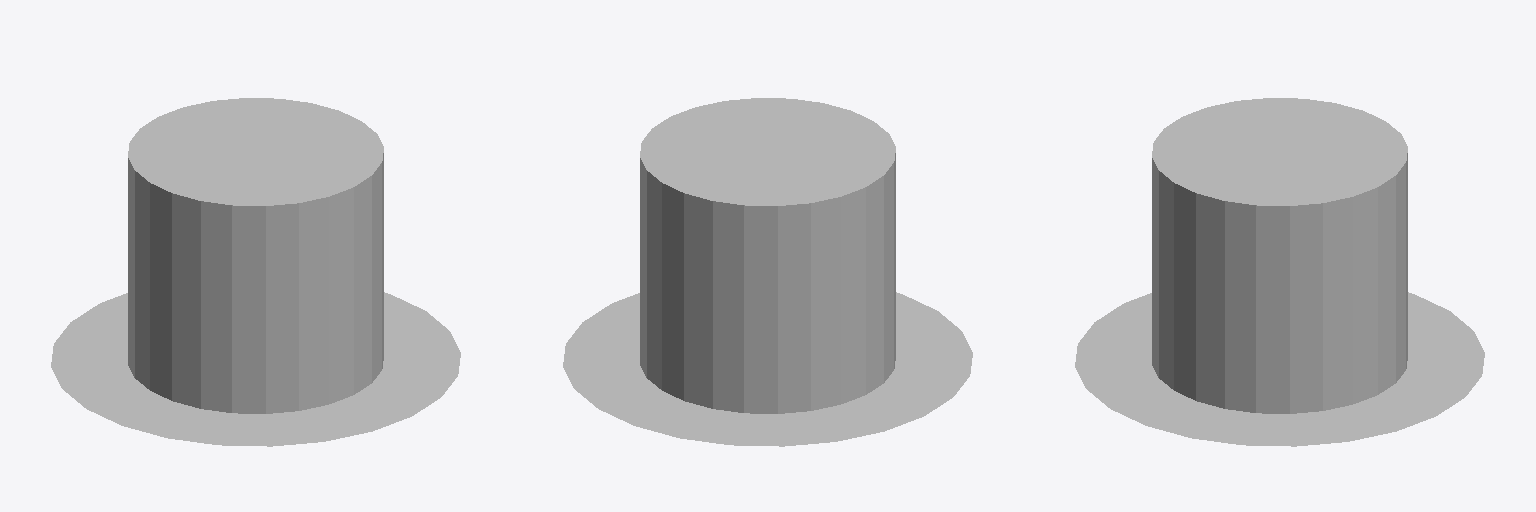
The model's file is hat.obj.
3 views of the same model, side by side, from view 1: azimuth 30°, elevation 25°; view 2: azimuth 150°, elevation 25°; view 3: azimuth 270°, elevation 25° (orthographic).
Parts seen in each view (by area): view 1: Mesh1 Stacy1 Model; view 2: Mesh1 Stacy1 Model; view 3: Mesh1 Stacy1 Model.
Part boxes in pixels (x1,y1,x2,y2): Mesh1 Stacy1 Model: (51,98,460,446); Mesh1 Stacy1 Model: (563,98,972,446); Mesh1 Stacy1 Model: (1075,98,1484,446).
Bounding box in the file's own units: 1.18 × 0.66 × 1.18.